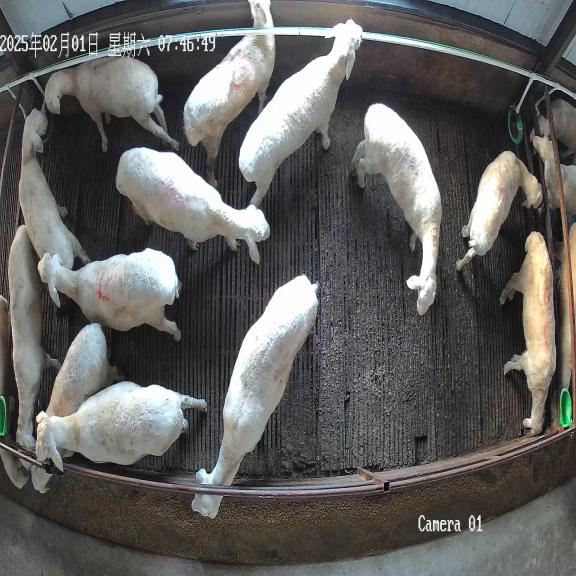stand: (239, 19, 362, 206), (351, 103, 442, 316), (116, 147, 269, 264), (500, 232, 556, 435), (456, 151, 542, 270)
